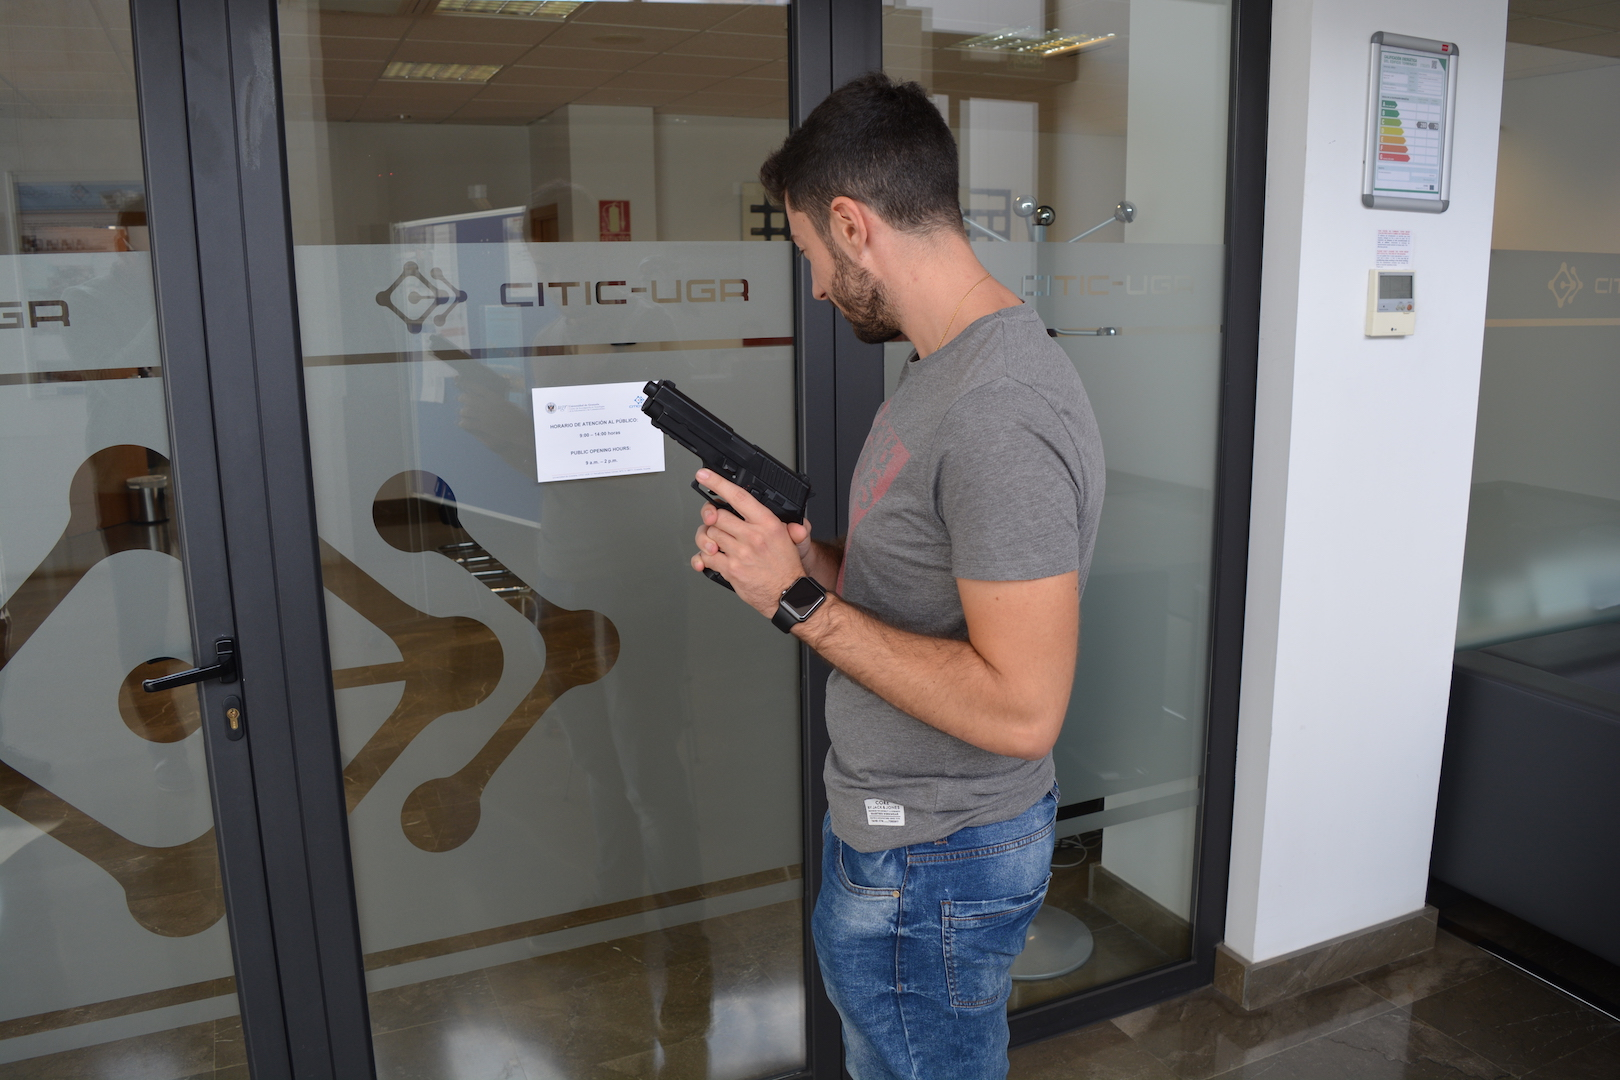pistol: (641, 378, 816, 593)
